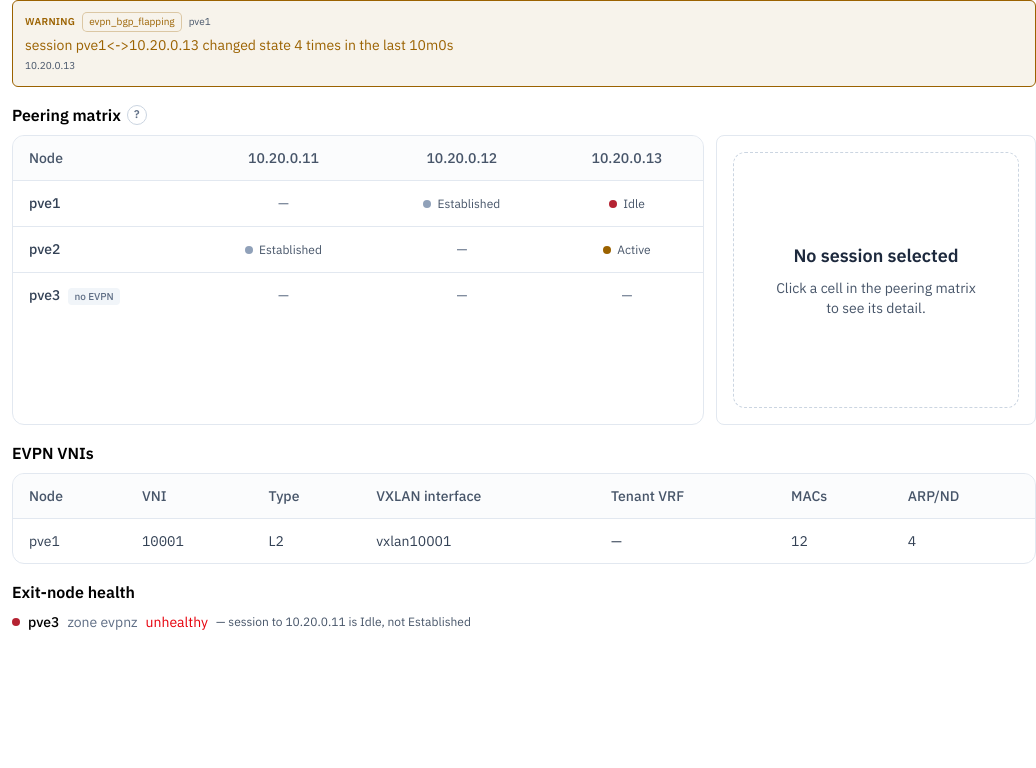
Scenario: EvpnView › clicking a matrix cell shows session detail matching the fixture JSON
Check: the table named "EVPN peering matrix" is shown, box [13,136,703,317]
Click the 1st button "Established". click: (462, 204)
box: [417,194,506,214]
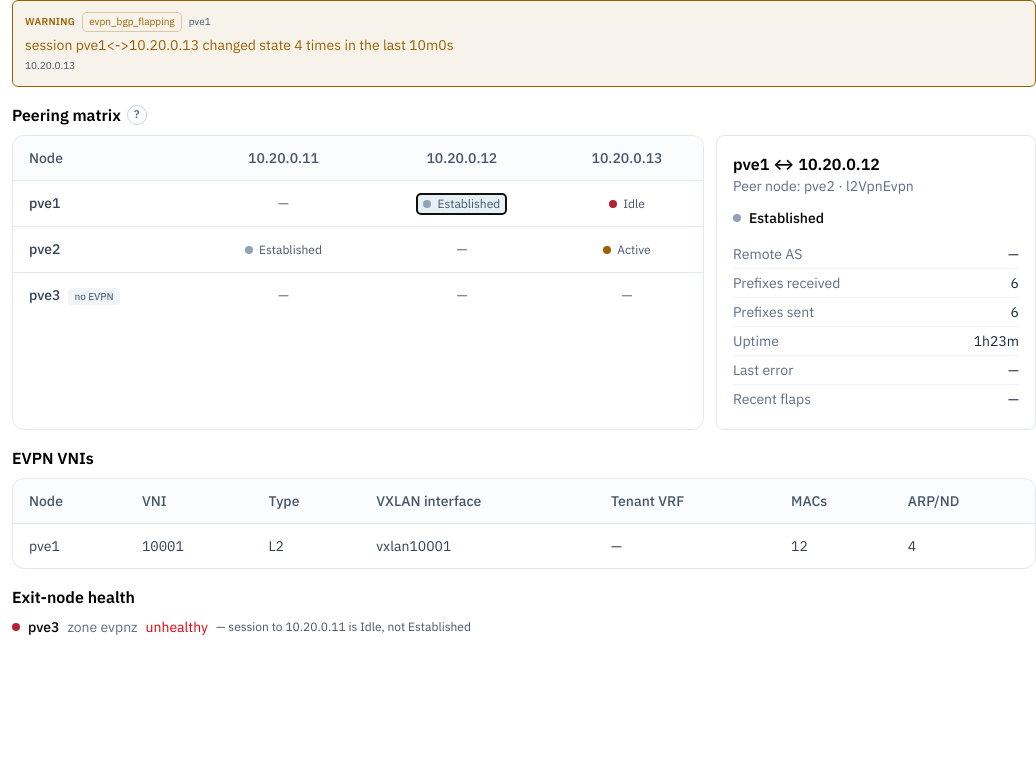
Check: the heading "pve1 ↔ 10.20.0.12" is shown, box [733,154,880,174]
Check: the text "Peer node: pve2 · l2VpnEvpn" is shown, box [733,177,914,195]
Check: the text "Prefixes received" is shown, box [733,274,840,292]
